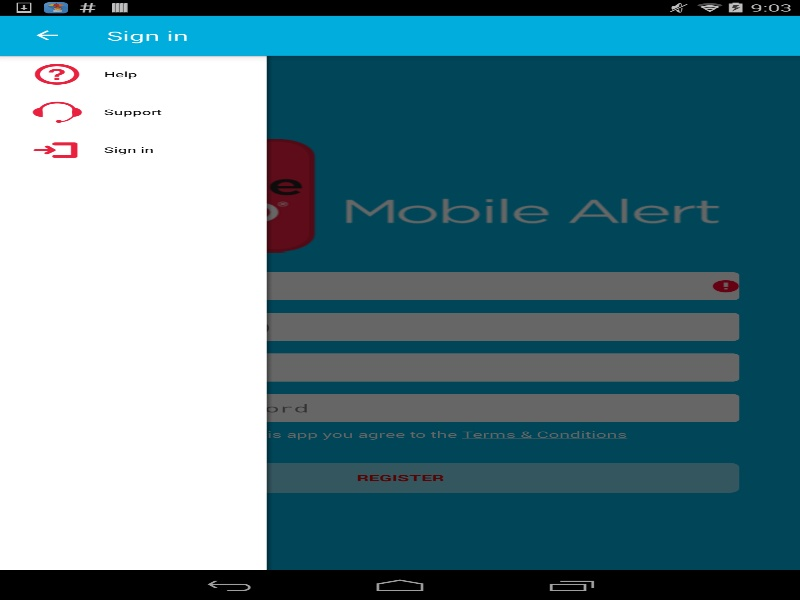Button: (60, 462, 739, 492), (10, 15, 85, 55)
Input: (60, 272, 739, 300), (60, 312, 739, 340), (60, 353, 739, 381), (60, 394, 739, 422)
